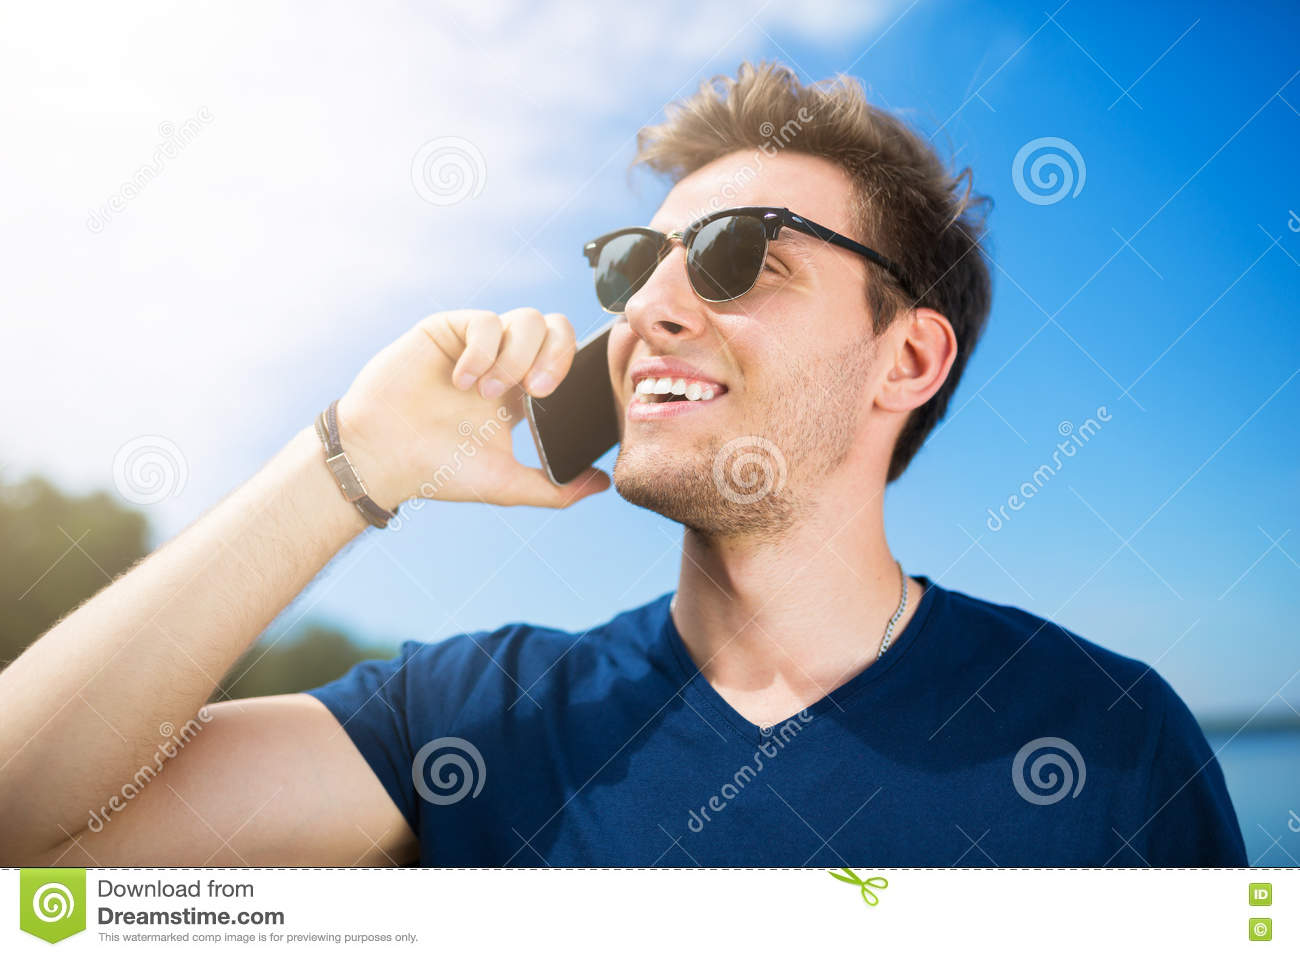phone: (524, 325, 621, 487)
talk: (344, 178, 818, 527)
